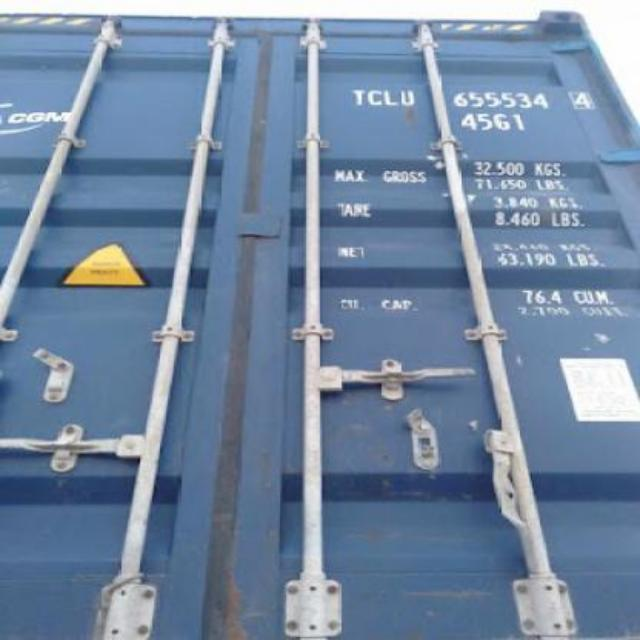3: (516, 92, 532, 110)
4: (530, 90, 550, 110), (572, 92, 590, 108)
5: (482, 90, 502, 108), (500, 90, 518, 110), (468, 92, 486, 108)
6: (450, 92, 468, 110)
C: (366, 88, 382, 109)
L: (382, 89, 400, 105)
T: (350, 87, 366, 107)
U: (400, 89, 416, 107)
